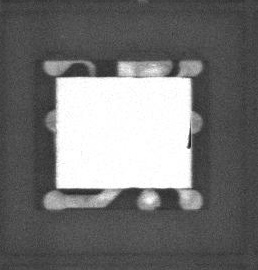DIE_BROKEN: (186, 125, 192, 149)
